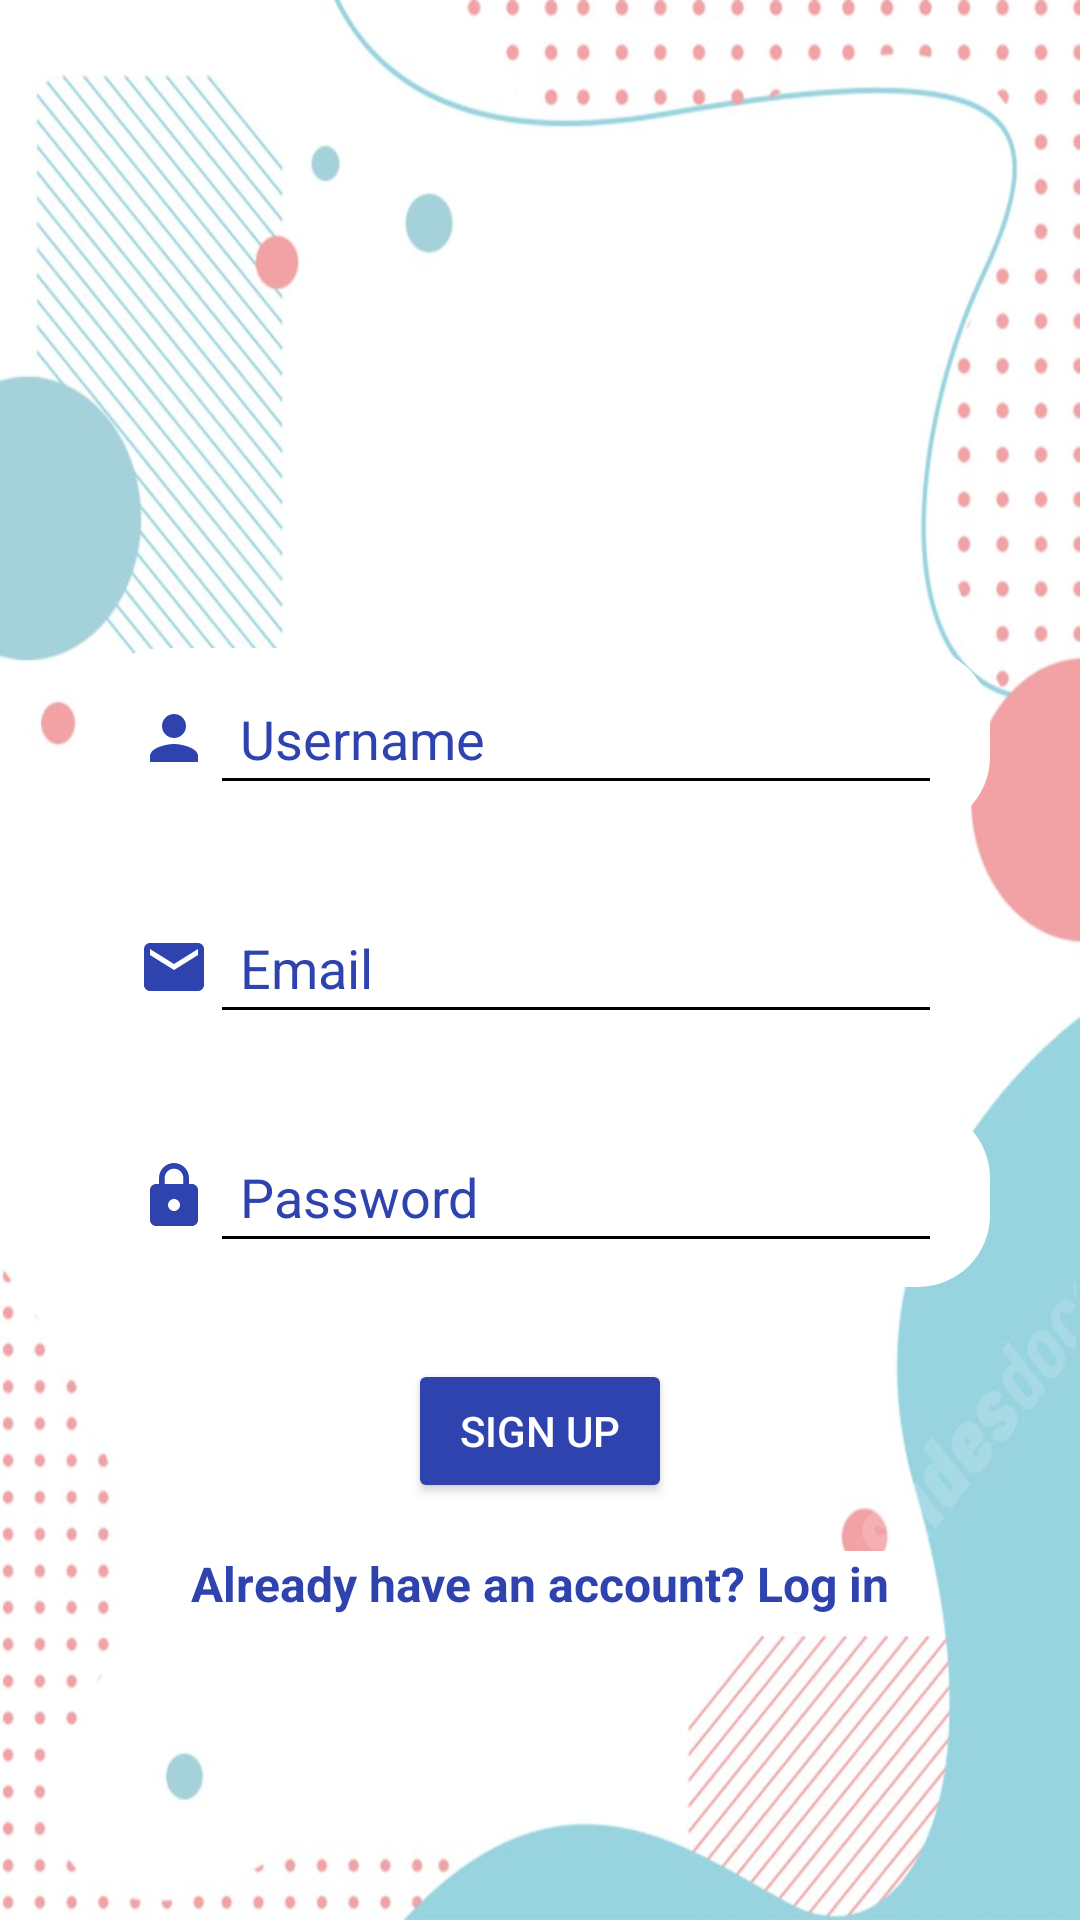

Where icons sit on this 1080w x 1920h app screen, as [x1, y1, x2, y2]:
lock: [150, 1163, 198, 1226]
person: [150, 714, 198, 762]
